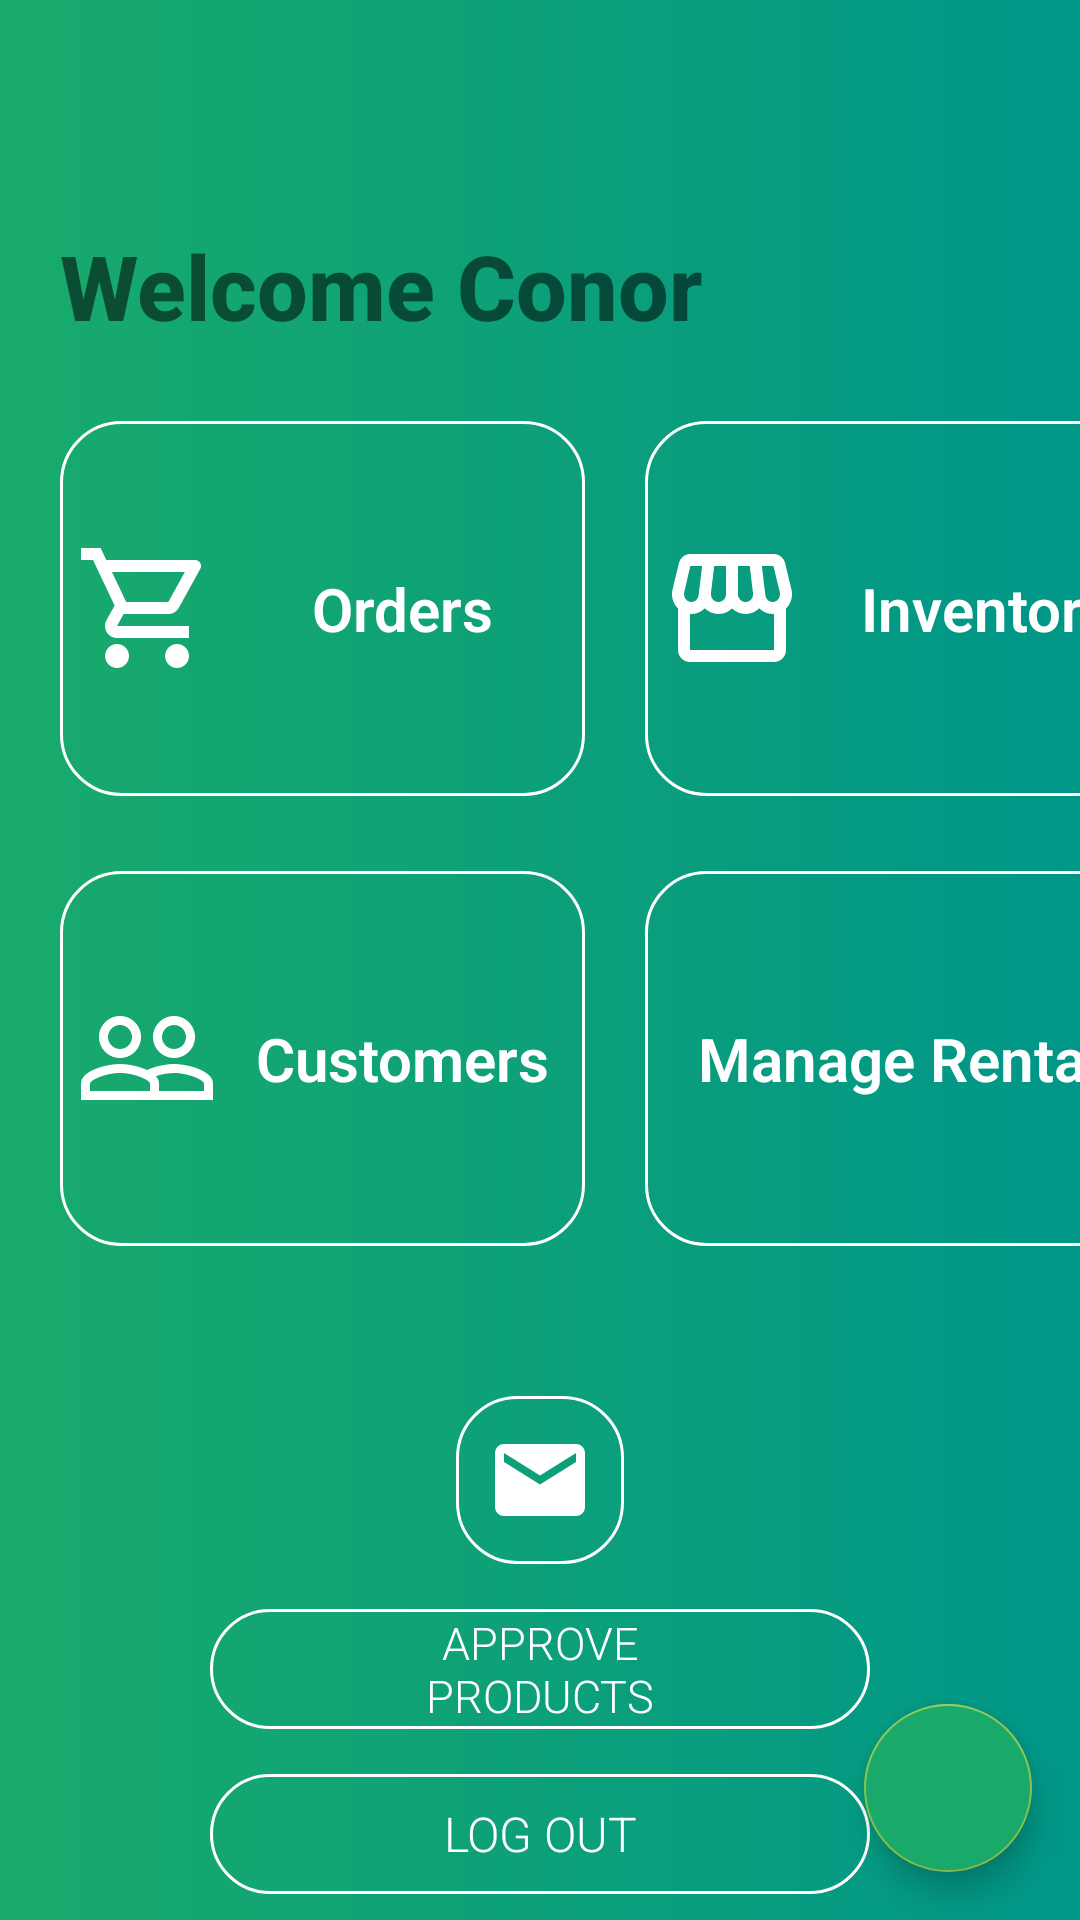

Icons on this 1080w x 1920h Android screen, each with the point to tap as point (x, y):
message: point (540, 1480)
